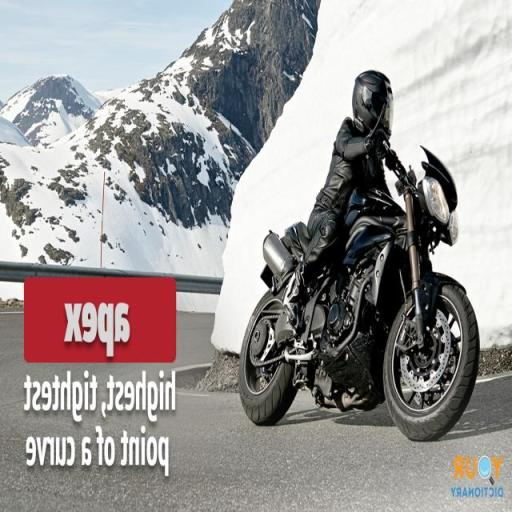Helmet: (352, 71, 393, 135)
Motor: (238, 154, 484, 450)
